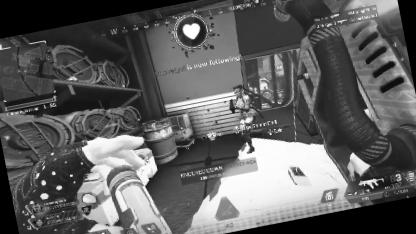Target: (224, 82, 256, 125)
